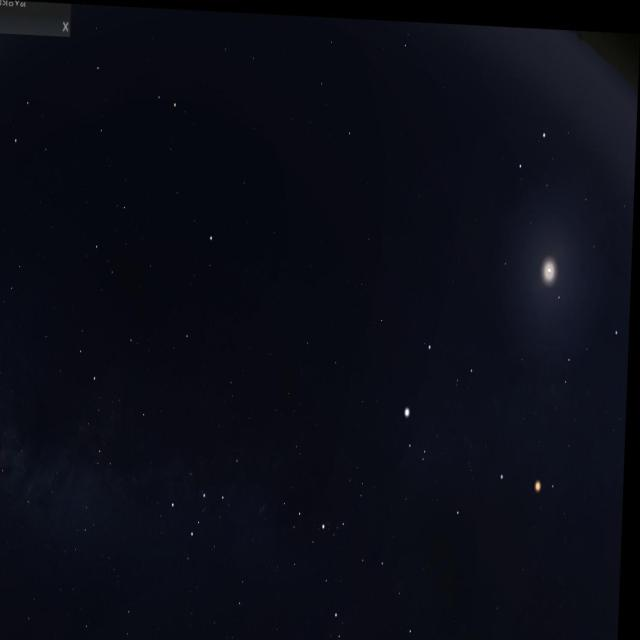cassiopeia: (174, 430, 264, 544)
moon: (522, 219, 578, 313)
